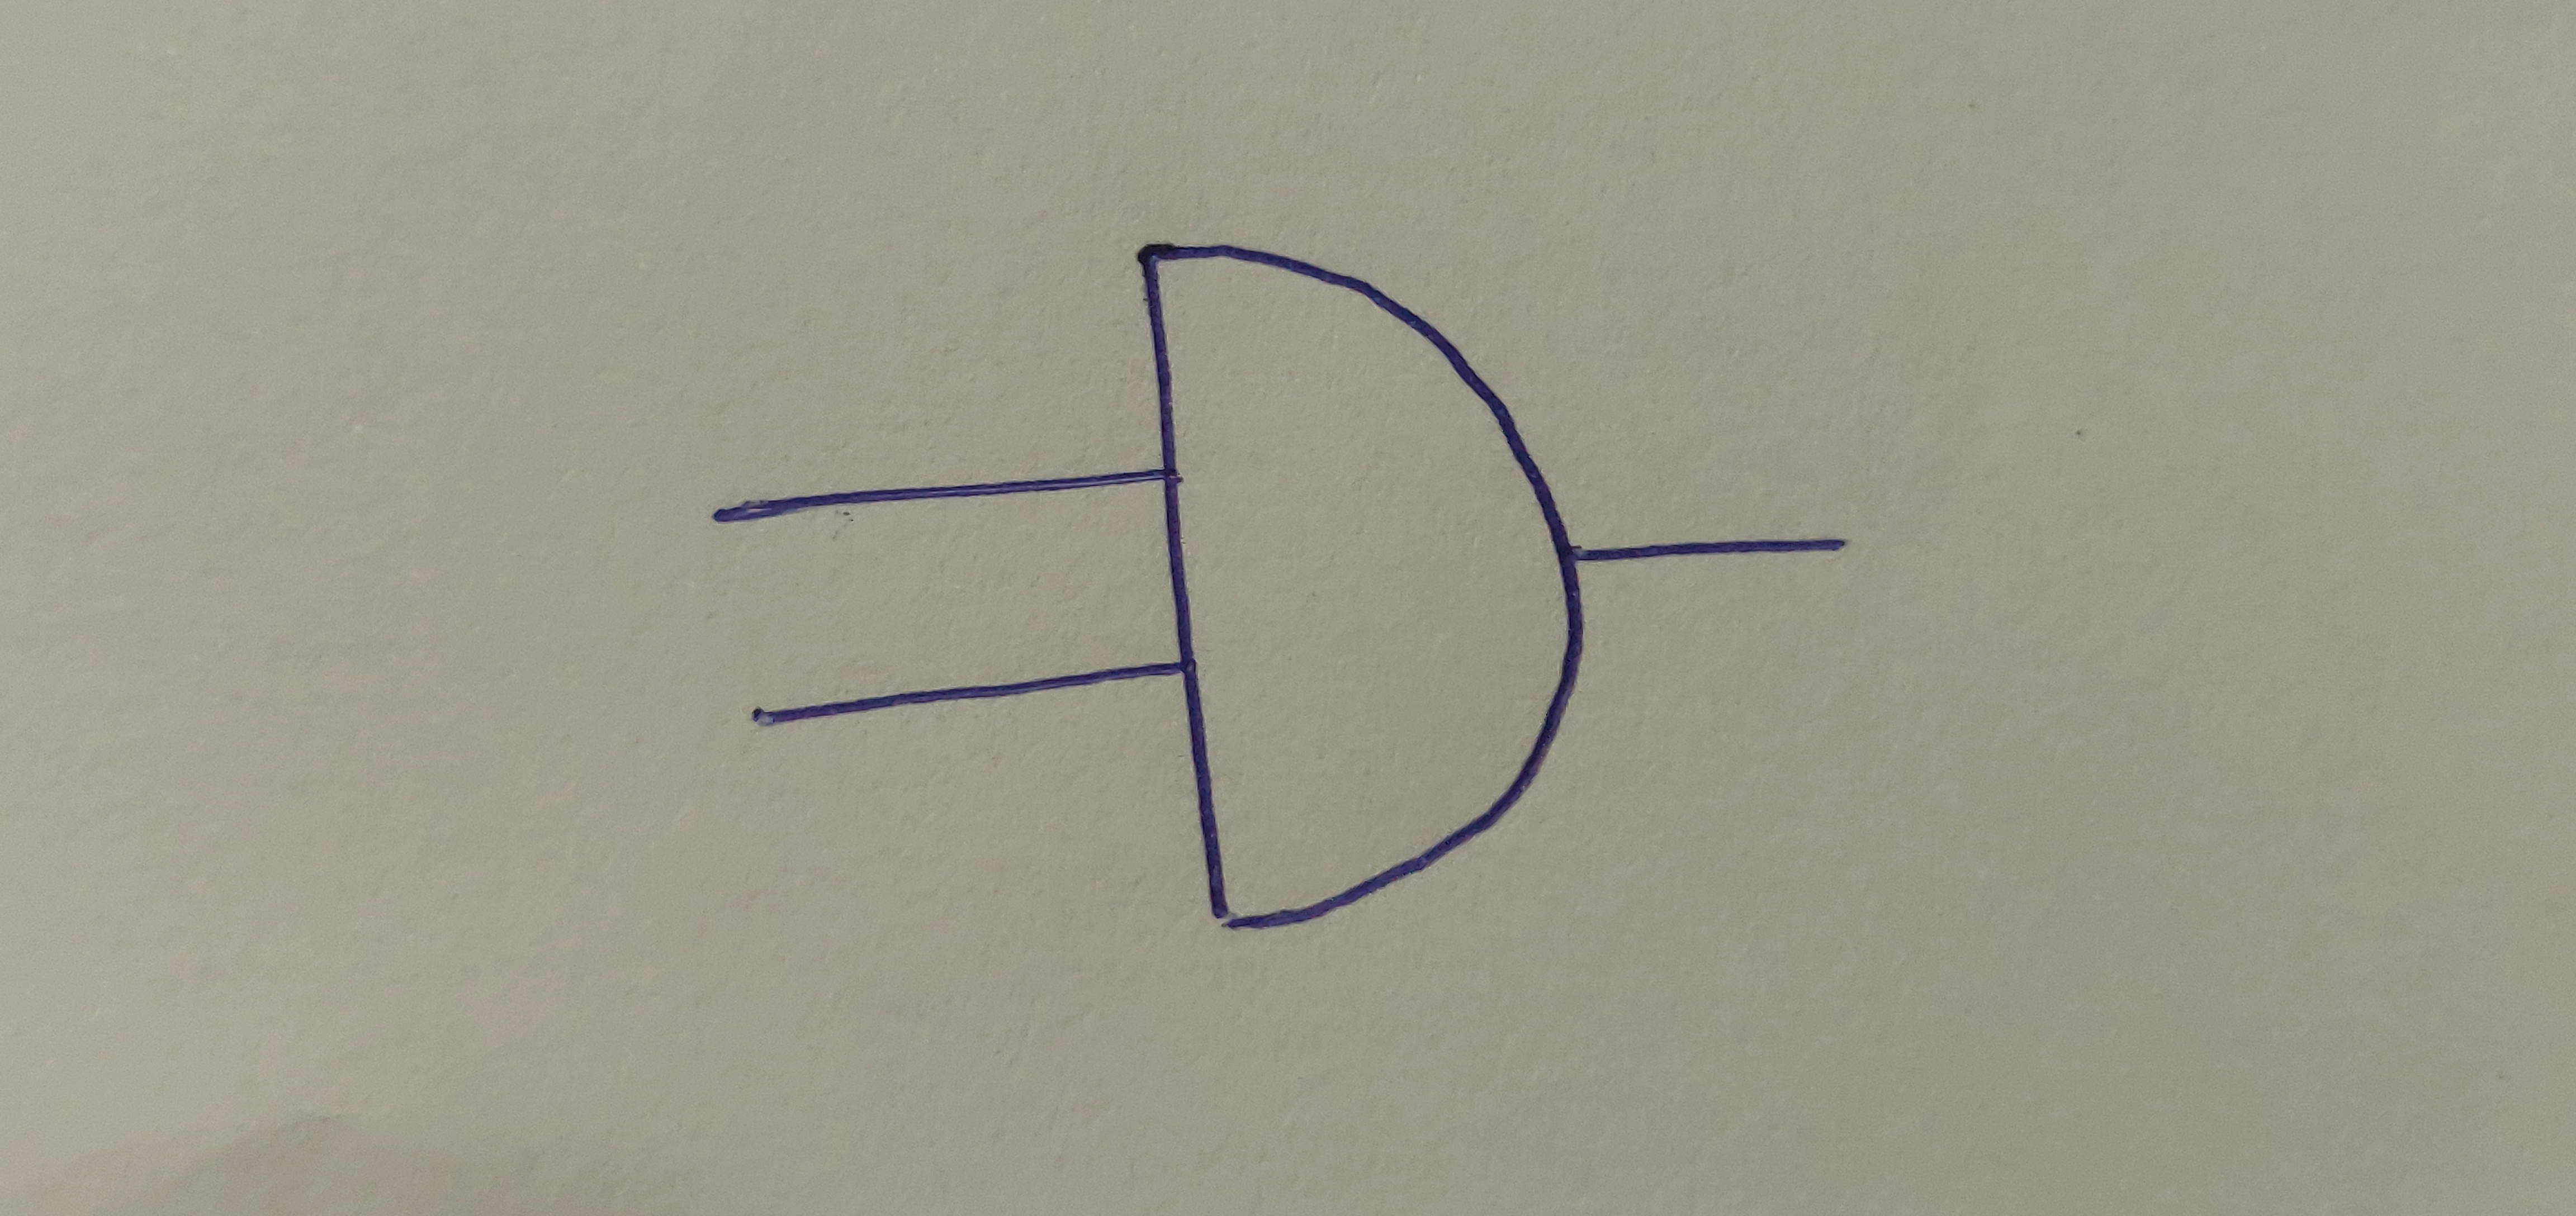and: (1137, 233, 1587, 935)
